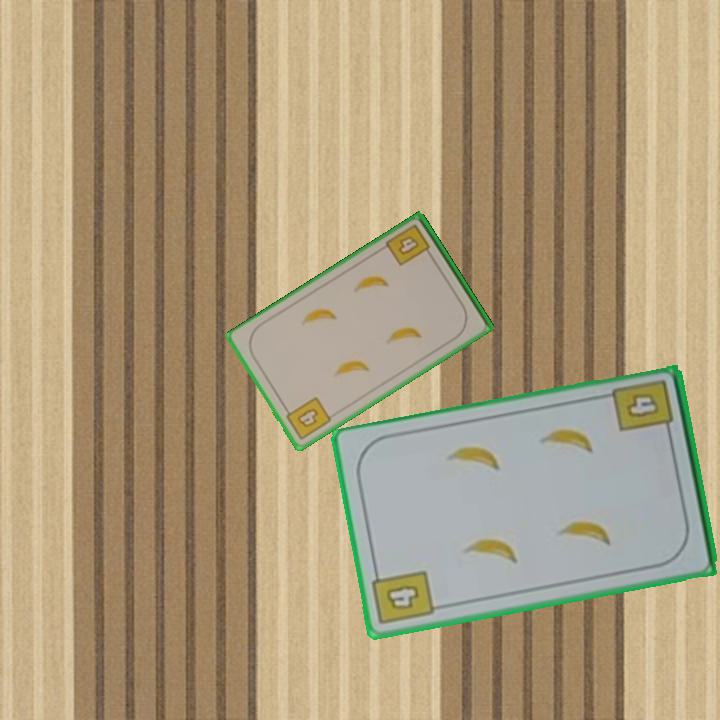4b: (369, 564, 437, 629), (609, 376, 677, 441), (280, 393, 334, 443), (382, 221, 436, 269)
